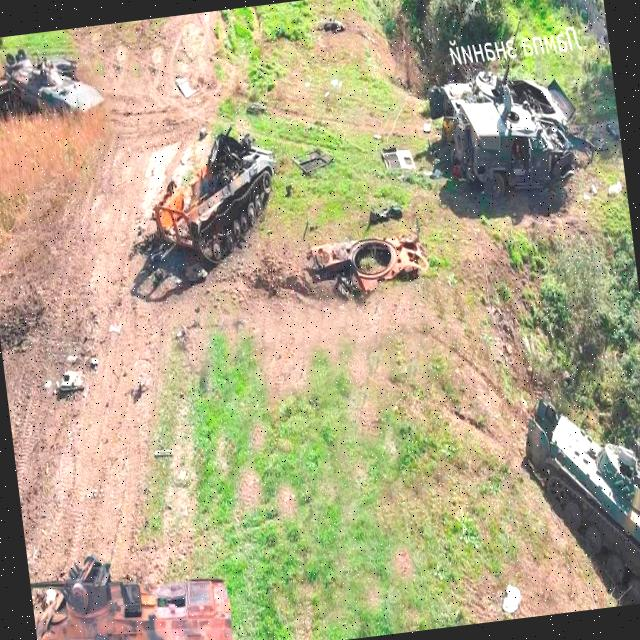AIFV: (525, 391, 640, 612), (6, 53, 110, 130), (1, 53, 83, 123)
Destroyed: (433, 60, 578, 209), (143, 130, 289, 277), (29, 545, 241, 640)
